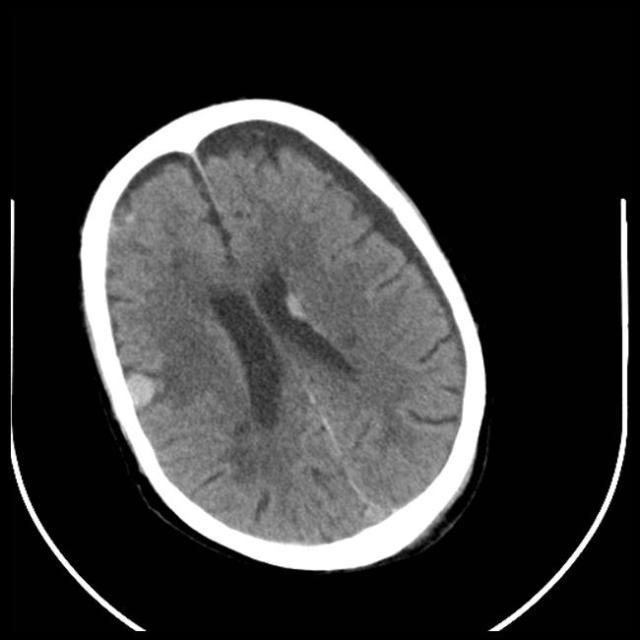lesion: (103, 338, 184, 446)
